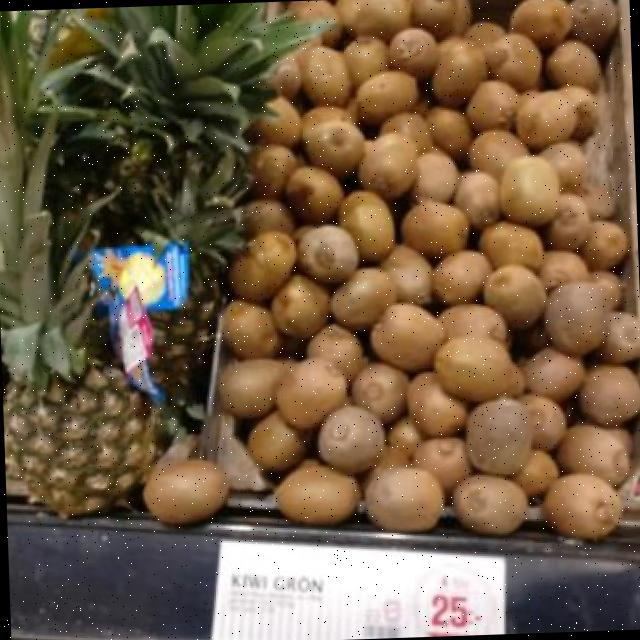kiwi: (275, 461, 360, 524), (146, 459, 228, 524), (466, 396, 533, 475), (435, 337, 516, 400), (544, 473, 622, 538), (372, 302, 444, 372), (277, 357, 346, 429), (367, 468, 444, 532), (318, 405, 384, 474), (229, 232, 295, 301), (557, 425, 631, 486), (454, 475, 526, 535), (219, 360, 293, 417), (333, 267, 397, 331), (545, 285, 603, 355), (500, 158, 559, 226), (339, 190, 394, 260), (484, 265, 545, 328), (579, 365, 640, 428), (358, 133, 416, 199), (402, 201, 468, 259), (407, 372, 466, 436), (433, 36, 487, 105), (516, 90, 577, 150), (272, 274, 327, 338), (222, 299, 281, 358), (297, 226, 358, 283), (248, 412, 306, 471), (352, 362, 408, 423), (285, 165, 343, 223), (305, 120, 364, 177), (524, 347, 585, 402), (357, 71, 419, 124), (307, 323, 364, 380), (413, 437, 472, 492), (433, 250, 491, 305), (486, 33, 541, 90), (510, 0, 572, 48), (479, 221, 542, 268), (470, 130, 529, 180), (302, 46, 351, 105), (340, 0, 410, 41), (466, 80, 520, 132), (382, 245, 432, 301), (248, 96, 301, 147), (443, 303, 507, 343), (547, 40, 600, 88), (454, 172, 499, 228), (389, 28, 437, 80), (413, 148, 459, 202), (251, 144, 296, 198), (569, 0, 616, 50), (344, 35, 389, 87), (521, 396, 566, 448), (555, 85, 598, 139), (411, 0, 470, 39), (546, 194, 587, 250), (582, 221, 628, 270), (289, 0, 339, 45), (427, 107, 472, 155), (541, 142, 585, 191), (380, 113, 433, 153), (513, 451, 559, 495), (540, 250, 589, 290), (602, 312, 640, 360), (244, 200, 293, 237), (303, 106, 351, 142), (269, 55, 302, 98), (387, 419, 422, 457), (464, 22, 505, 47), (590, 272, 617, 308), (585, 194, 614, 220)
